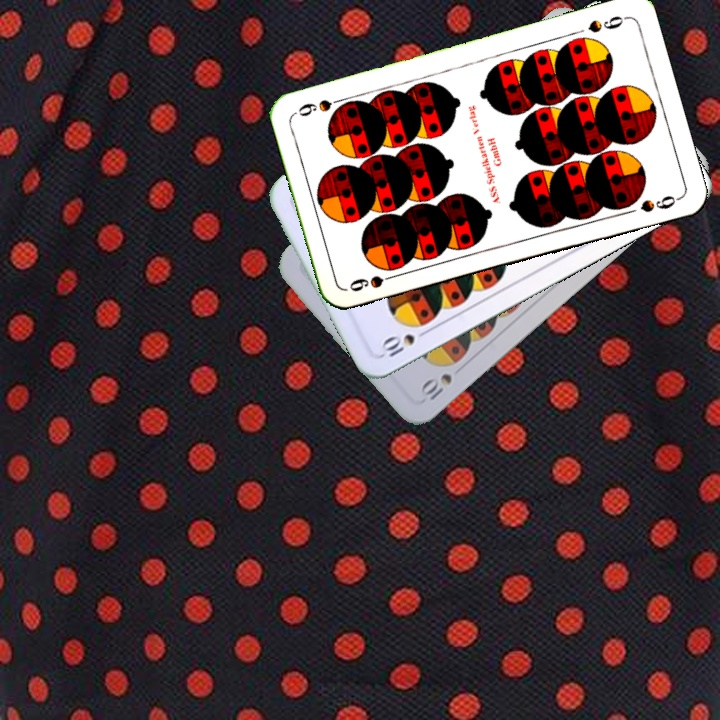S10: (377, 325, 433, 360), (416, 369, 455, 405)
S9: (345, 269, 402, 295), (584, 11, 630, 36)
